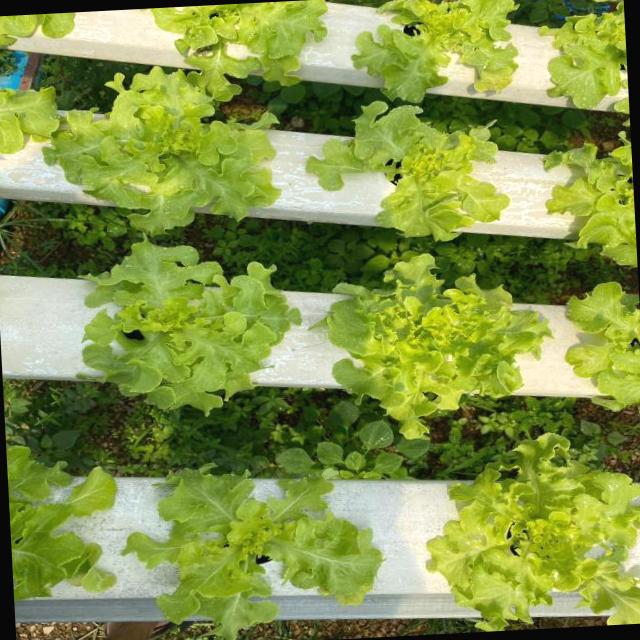Lettuce-Not-Ready-to-Harvest: (124, 470, 382, 638), (326, 254, 551, 439), (429, 435, 640, 631), (43, 67, 278, 234), (83, 239, 300, 413), (308, 101, 509, 240), (152, 1, 326, 100), (352, 0, 517, 103), (6, 447, 116, 599), (547, 134, 638, 266), (566, 282, 640, 411), (545, 0, 627, 109)
